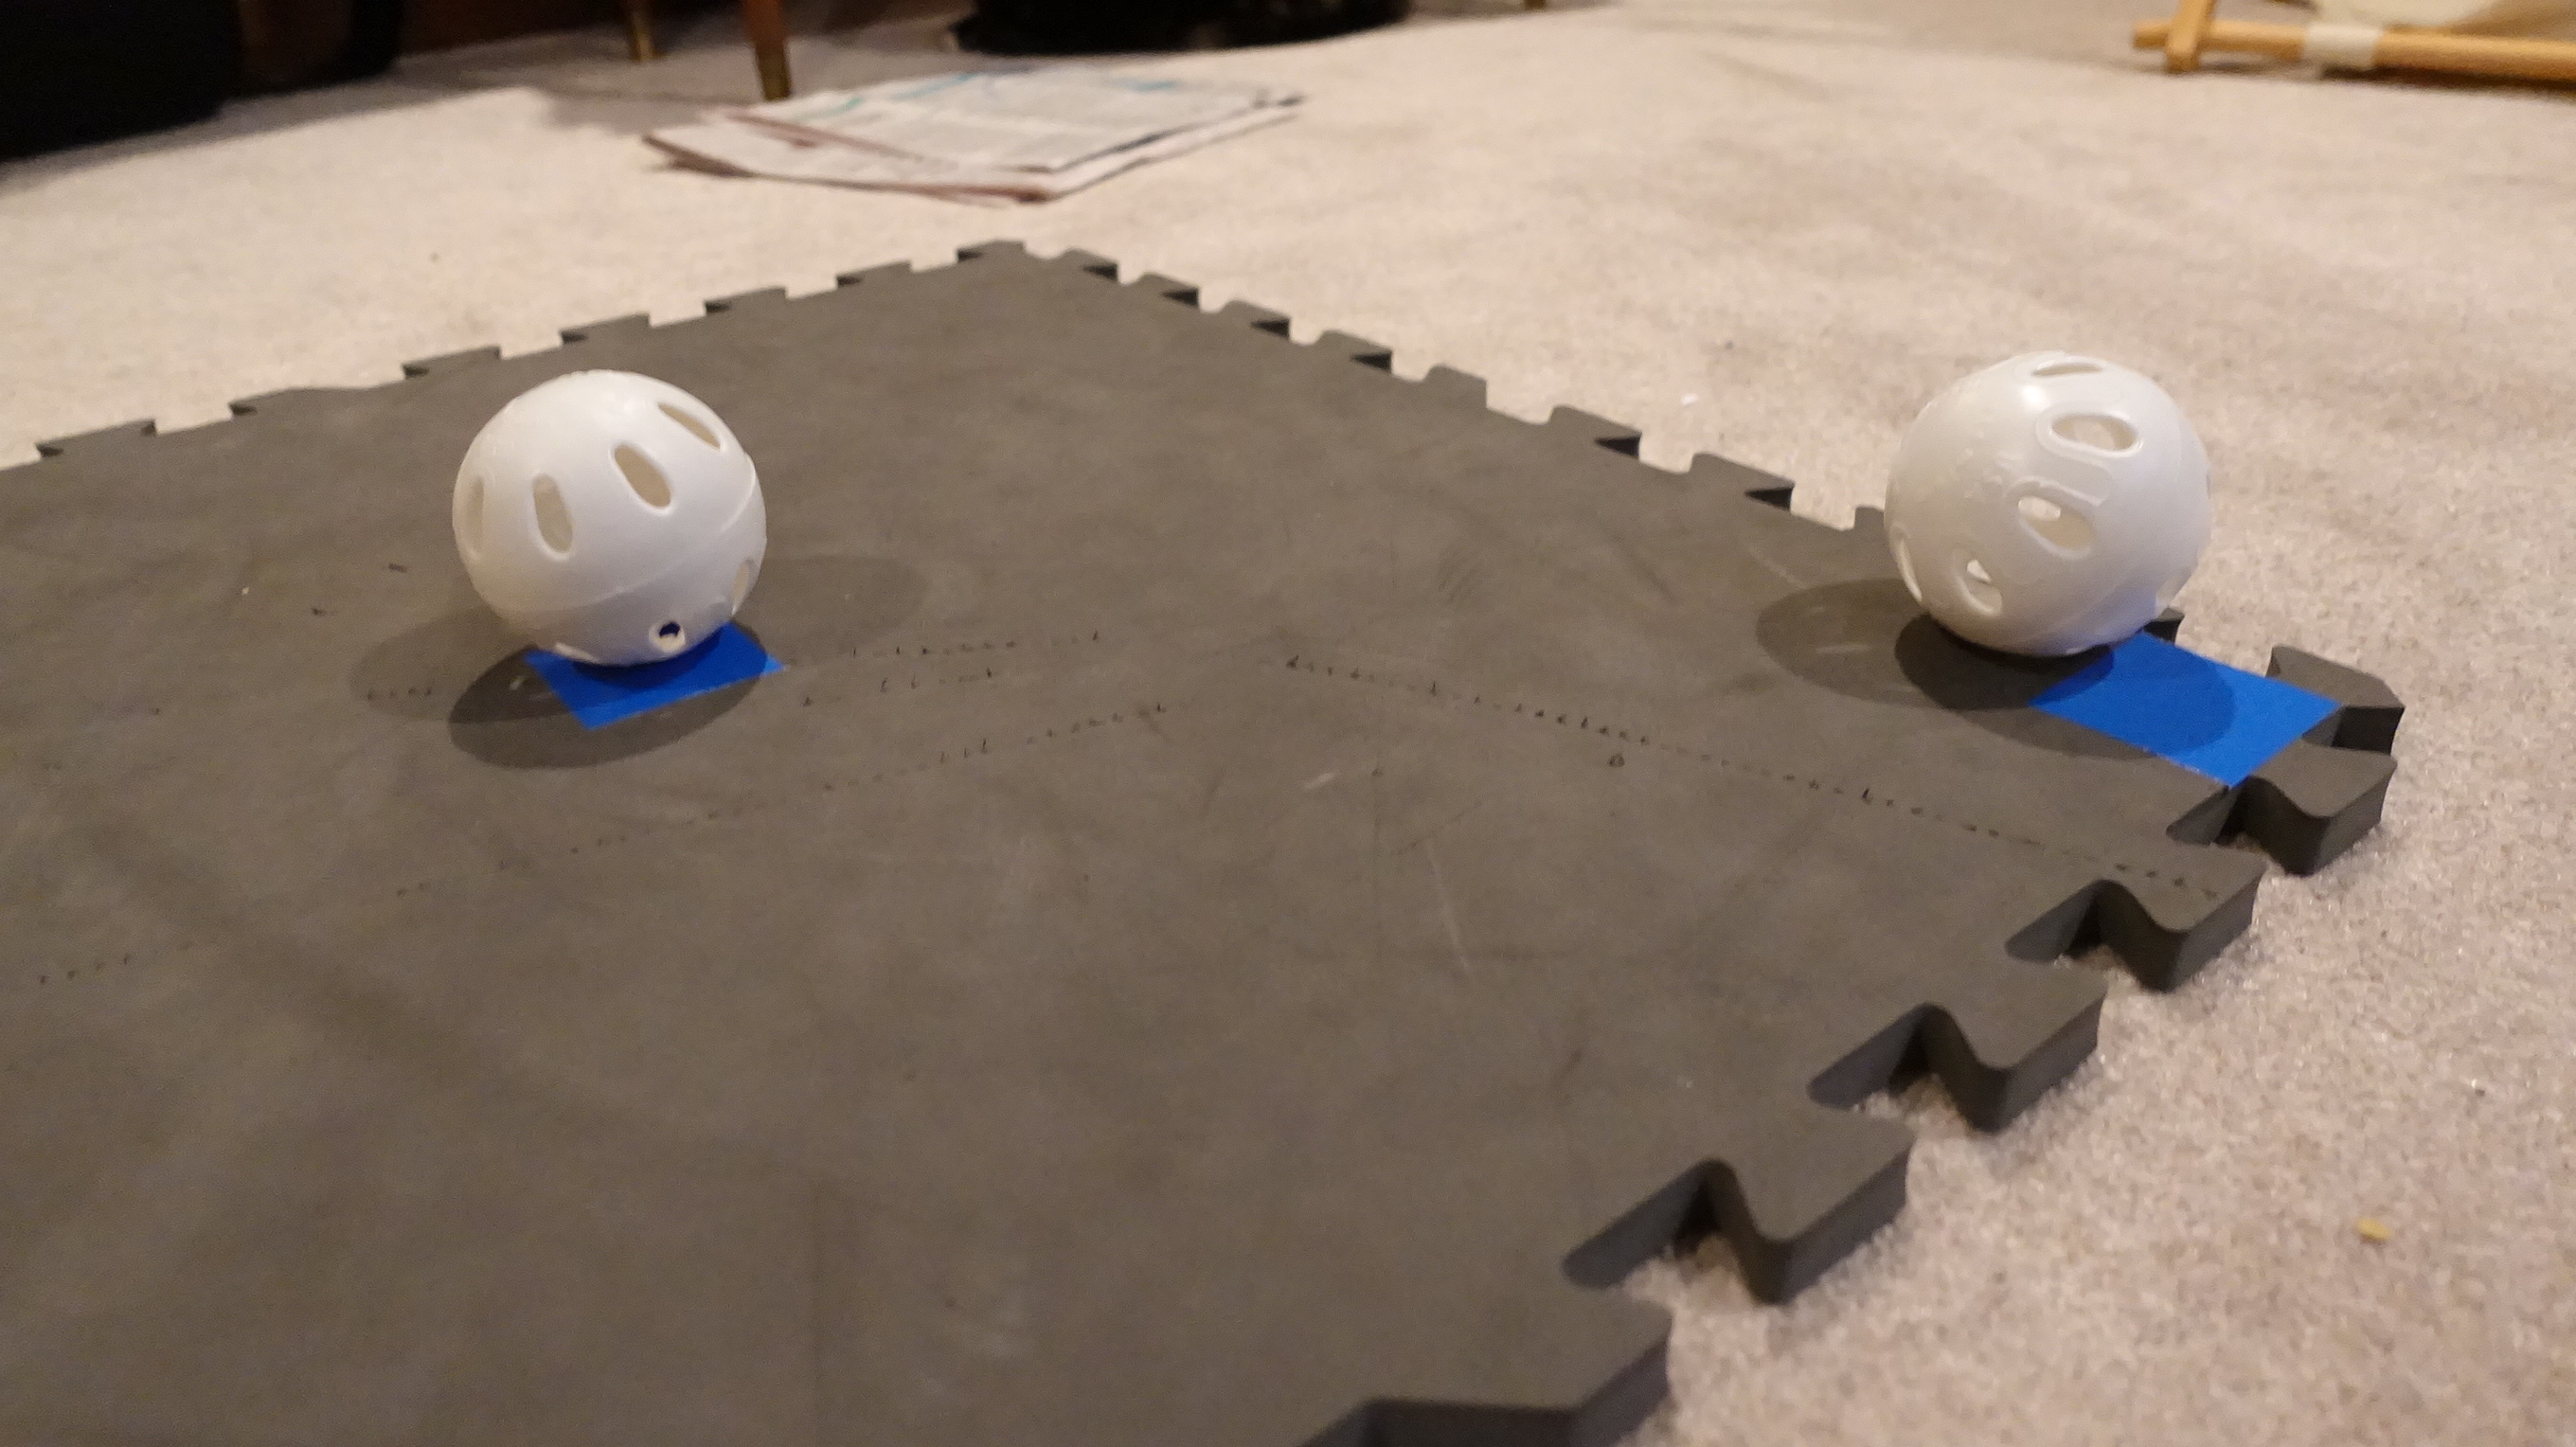silver: (1881, 352, 2212, 660), (451, 361, 771, 678)
